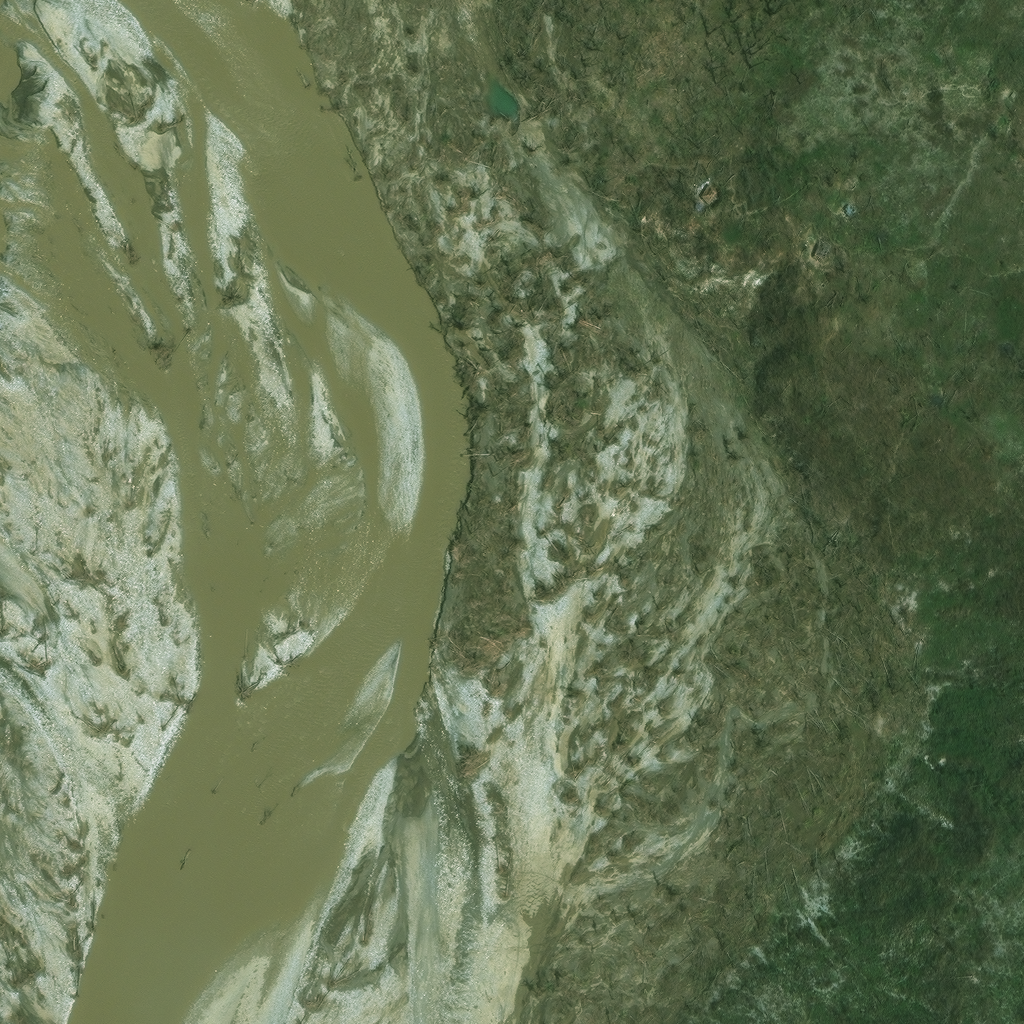destroyed: (381, 16, 422, 54), (809, 232, 839, 262)
major_damage: (703, 179, 727, 205), (856, 188, 873, 210)
